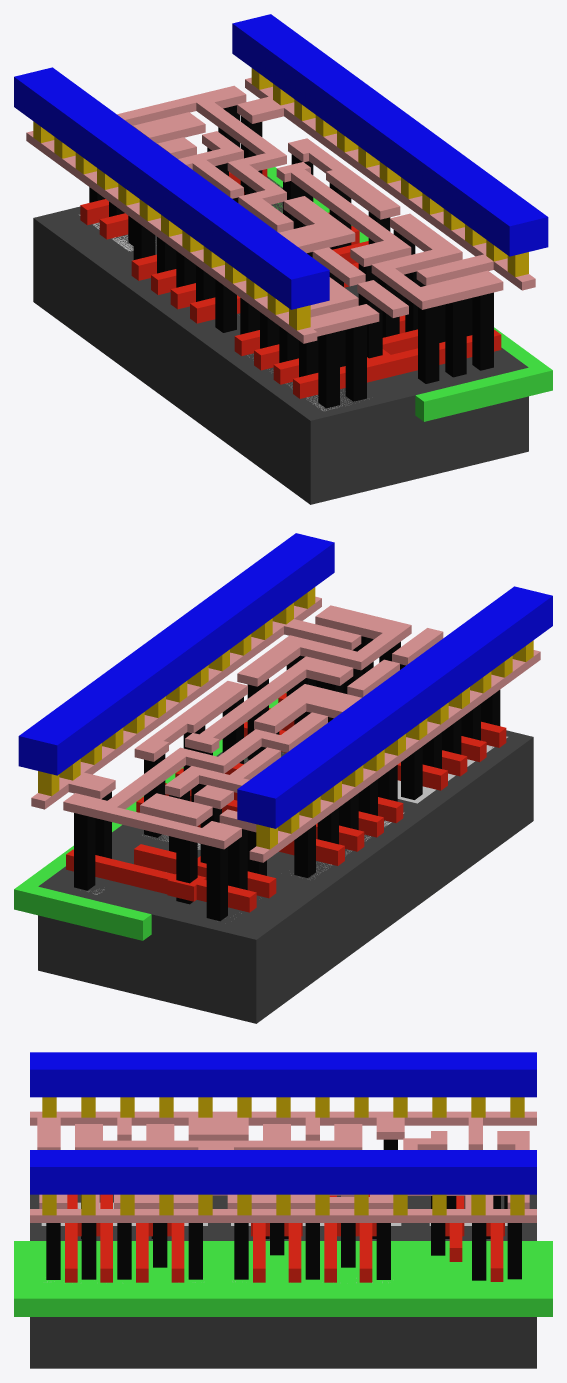
The model's file is sky130_fd_sc_hd__nor4bb_2.obj.
3 views of the same model, one above another, from view 1: azimuth 30°, elevation 25°; view 2: azimuth 150°, elevation 25°; view 3: azimuth 270°, elevation 25° (orthographic). The views are drawn at different scales.
Visible parts, largest first — view 1: subs, metal1, li, licon, poly, mcon, nwell; view 2: subs, metal1, li, licon, poly, mcon, nwell; view 3: metal1, nwell, subs, li, licon, poly, mcon.
Part boxes in pixels (x1,y1,x2,y2): subs: (33, 176, 528, 504); metal1: (14, 14, 548, 309); li: (26, 77, 535, 343); licon: (89, 105, 493, 408); poly: (80, 169, 501, 398); mcon: (33, 68, 528, 330); nwell: (267, 167, 552, 421); subs: (38, 730, 533, 1023); metal1: (18, 533, 552, 828); li: (31, 596, 540, 862); licon: (74, 636, 500, 921); poly: (66, 693, 506, 912); mcon: (38, 587, 533, 849); nwell: (14, 692, 286, 940); metal1: (30, 1052, 536, 1194); nwell: (14, 1241, 552, 1316); subs: (30, 1194, 536, 1368); li: (30, 1111, 536, 1222); licon: (46, 1139, 521, 1280); poly: (65, 1194, 504, 1282); mcon: (42, 1097, 524, 1215).
Bounding box in the file's own units: 3.2 × 2.74 × 6.36.
